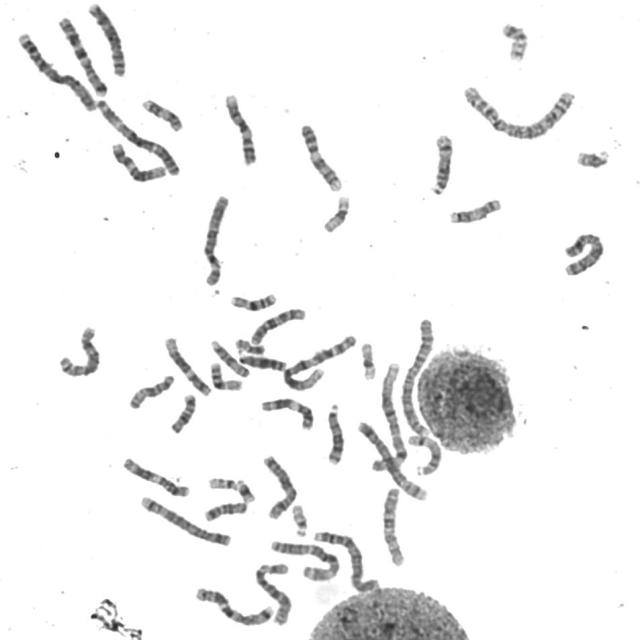A1: (280, 330, 360, 393), (368, 359, 408, 475)
A2: (459, 79, 579, 141), (398, 312, 438, 438)
A3: (92, 95, 183, 179), (268, 536, 342, 582)
B4: (13, 28, 99, 113), (310, 526, 382, 594)
B5: (353, 418, 429, 502), (137, 492, 234, 548)
C10: (247, 304, 308, 346), (379, 483, 408, 568)
C11: (119, 454, 193, 498), (258, 394, 316, 432)
C12: (161, 332, 214, 398), (108, 139, 169, 182)
C6: (199, 191, 232, 287), (252, 558, 294, 627)
C7: (54, 12, 111, 97), (192, 584, 278, 628)
C8: (84, 0, 129, 80), (56, 322, 102, 378)
C9: (297, 120, 345, 193), (221, 89, 259, 167)
D13: (324, 400, 346, 466), (236, 350, 287, 373)
D14: (427, 130, 456, 196), (406, 435, 443, 477)
D15: (126, 370, 176, 411), (207, 336, 251, 379)
E16: (227, 289, 280, 313), (207, 358, 244, 392)
E17: (446, 194, 504, 226), (138, 95, 186, 133)
E18: (167, 390, 198, 435), (201, 498, 250, 523)
F19: (320, 192, 353, 234), (358, 338, 380, 382)
F20: (498, 18, 532, 63), (232, 335, 266, 356)
G21: (574, 145, 612, 170), (235, 476, 258, 504)
G22: (289, 500, 310, 538), (206, 474, 240, 492)
X: (259, 452, 299, 521), (562, 231, 606, 278)
